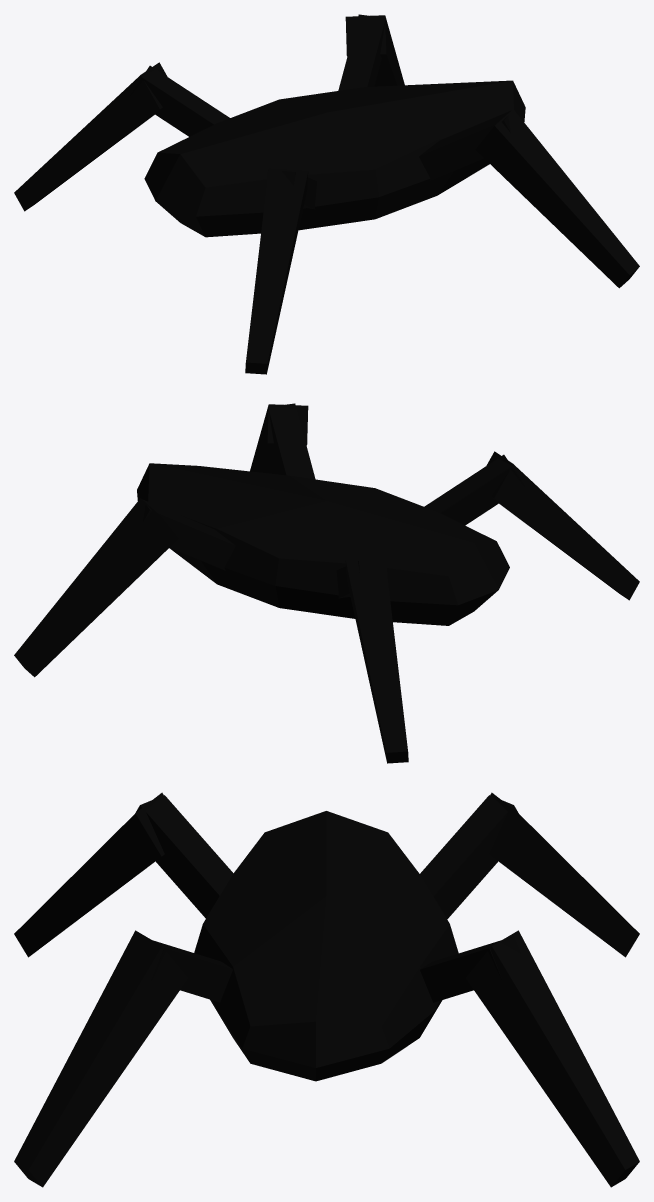
File: spider.gltf
3 views of the same model, one above another, from view 1: azimuth 30°, elevation 25°; view 2: azimuth 150°, elevation 25°; view 3: azimuth 270°, elevation 25° (orthographic). The views are drawn at different scales.
Parts seen in each view (by area): view 1: Cylinder; view 2: Cylinder; view 3: Cylinder.
Boxes of the visible parts, x1,y1,x2,y2 form: Cylinder: [14, 14, 639, 374]; Cylinder: [14, 403, 639, 763]; Cylinder: [14, 792, 639, 1187].
Size of the model in its own units: 4.29 by 1.61 by 4.58.
1 material, 1 textured.
